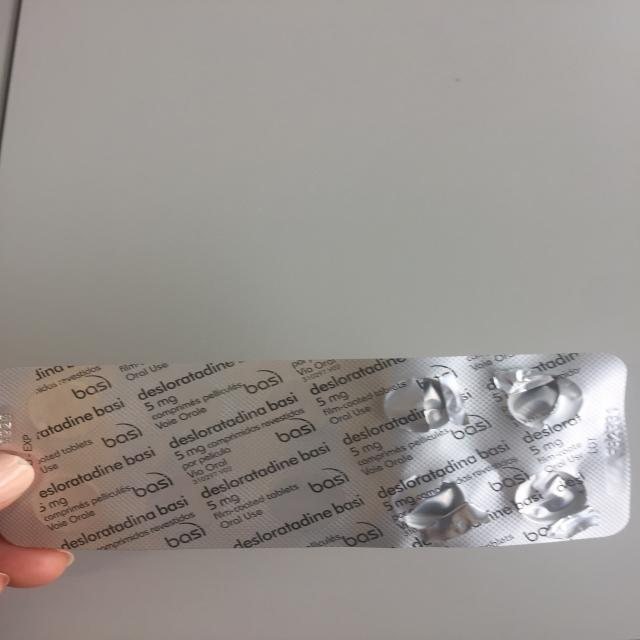Empty: (384, 472, 482, 542), (507, 467, 601, 538), (492, 369, 594, 434), (374, 374, 469, 438)
Pill: (264, 474, 358, 537), (132, 376, 225, 436), (258, 376, 341, 441), (134, 472, 218, 534), (27, 474, 104, 534), (24, 381, 104, 436)
